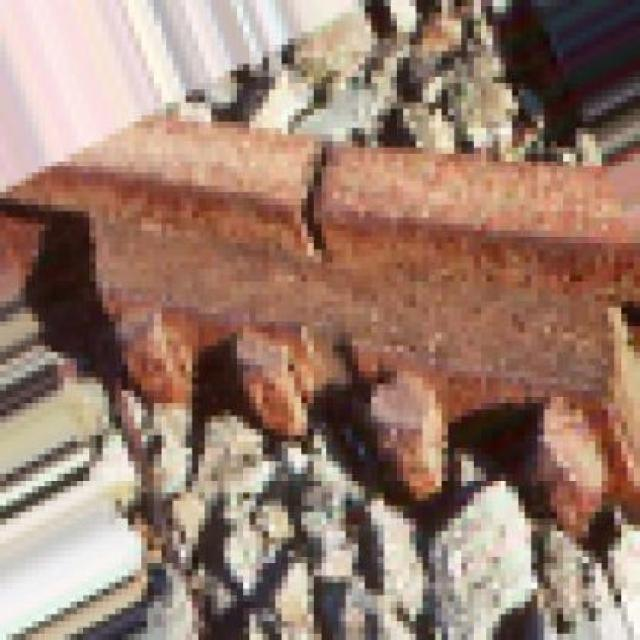defective: (68, 26, 636, 514)
